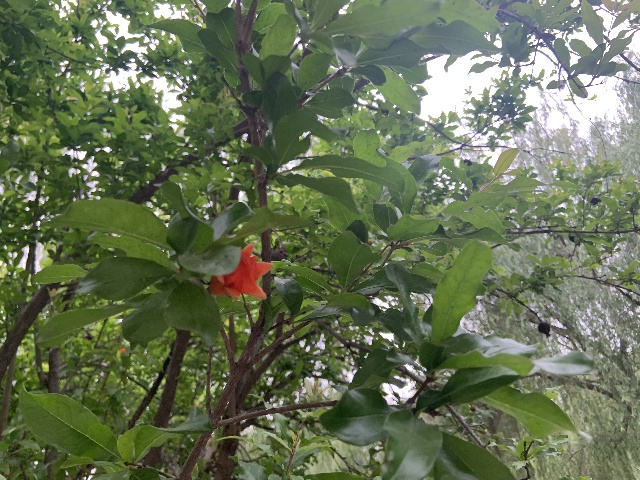flower: (209, 242, 272, 302)
